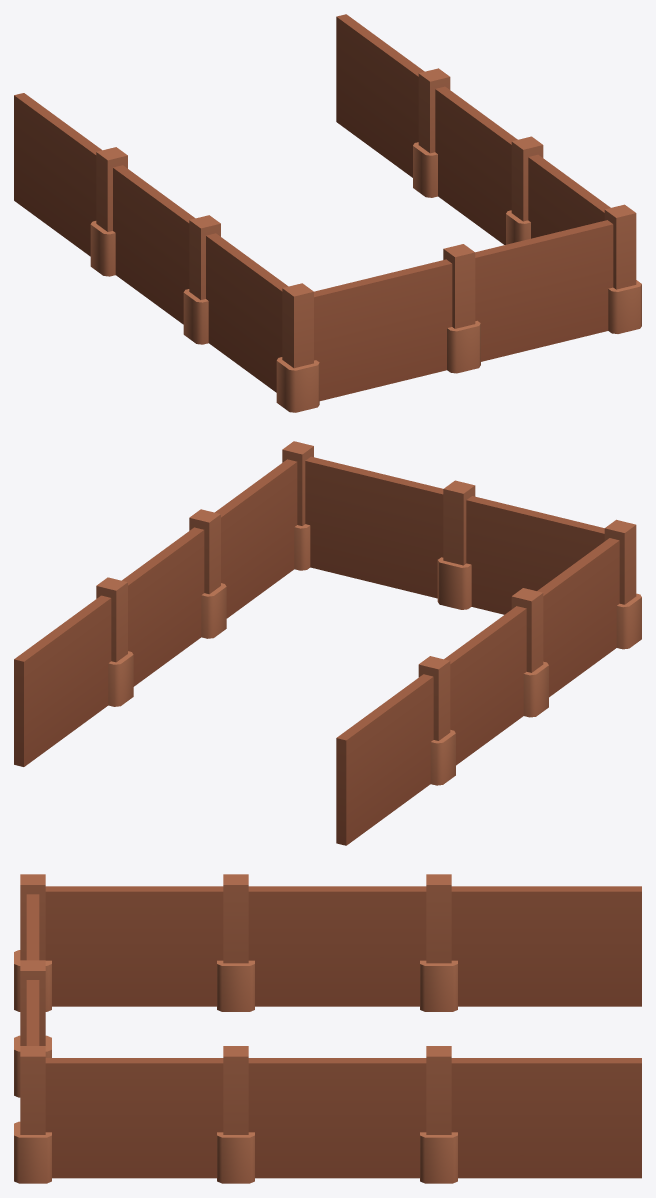
The model's file is fence-3x2.glb.
The picture shows the model from 3 angles, top to bottom: view 1: azimuth 30°, elevation 25°; view 2: azimuth 150°, elevation 25°; view 3: azimuth 270°, elevation 25°; orthographic projection. The views are drawn at different scales.
Parts seen in each view (by area): view 1: fence-3x2; view 2: fence-3x2; view 3: fence-3x2.
Boxes of the visible parts, box(x1,y1,x2,y2) form: fence-3x2: box(14, 14, 641, 412); fence-3x2: box(14, 441, 641, 845); fence-3x2: box(14, 874, 641, 1183).
Size of the model in its own units: 0.875 by 0.27 by 1.24.
